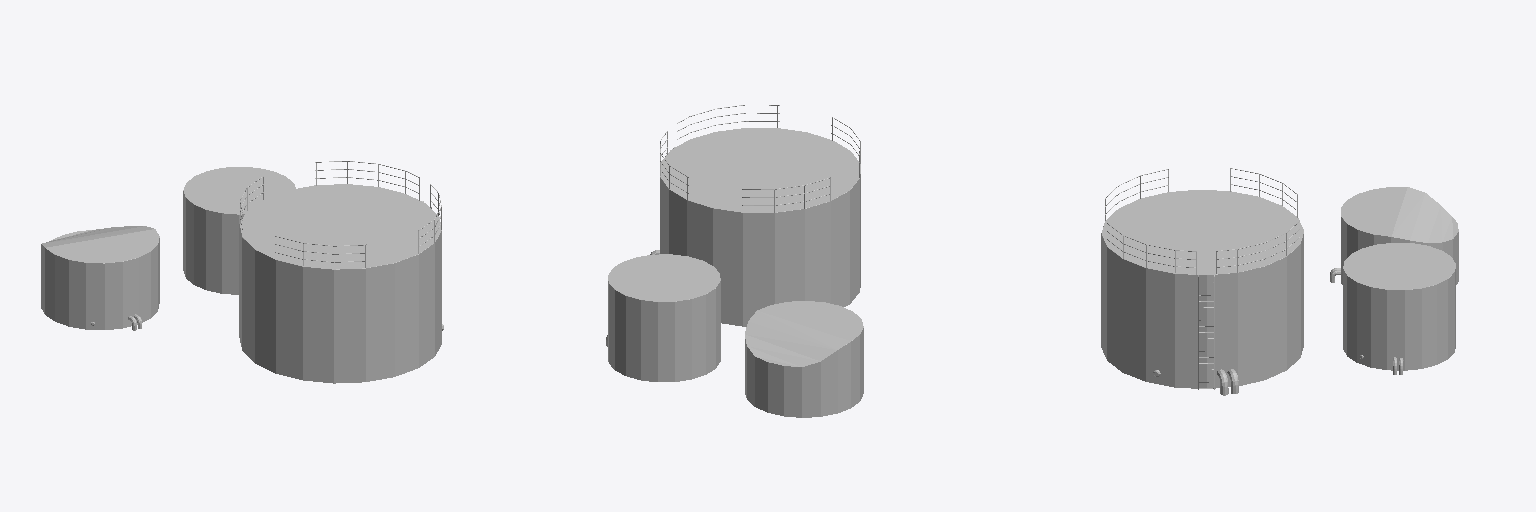
File: Oil_Silos.obj
The picture shows the model from 3 angles: view 1: azimuth 30°, elevation 25°; view 2: azimuth 150°, elevation 25°; view 3: azimuth 270°, elevation 25°; orthographic projection.
Parts seen in each view (by area): view 1: polySurface267; view 2: polySurface267; view 3: polySurface267.
Boxes of the visible parts, <box> form: polySurface267: <box>41,161,443,383</box>; polySurface267: <box>606,105,863,417</box>; polySurface267: <box>1101,168,1458,395</box>.
Size of the model in its own units: 49.59 by 22.41 by 52.14.